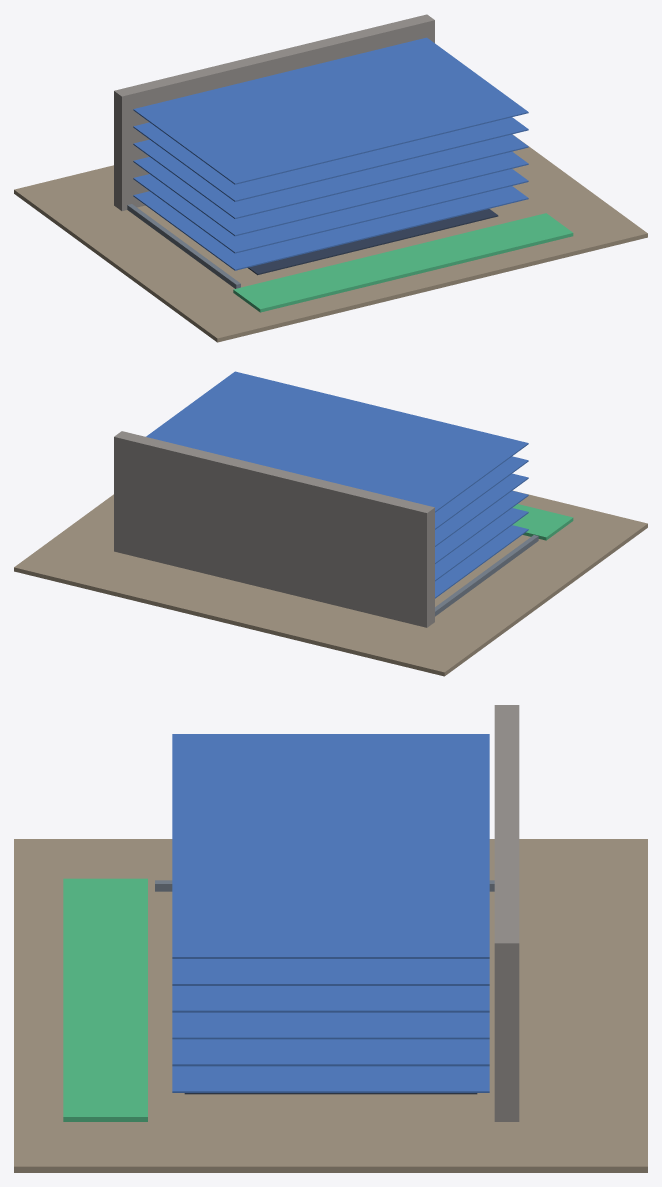
File: stage_11_finishing.glb
The picture shows the model from 3 angles, top to bottom: view 1: azimuth 30°, elevation 25°; view 2: azimuth 150°, elevation 25°; view 3: azimuth 270°, elevation 25°; orthographic projection. The views are drawn at different scales.
Parts seen in each view (by area): view 1: world; view 2: world; view 3: world.
Boxes of the visible parts, <box> form: world: <box>14,14,647,342</box>; world: <box>14,371,647,676</box>; world: <box>14,705,647,1172</box>.
Bounding box in the file's own units: 11 × 2.9 × 9.
